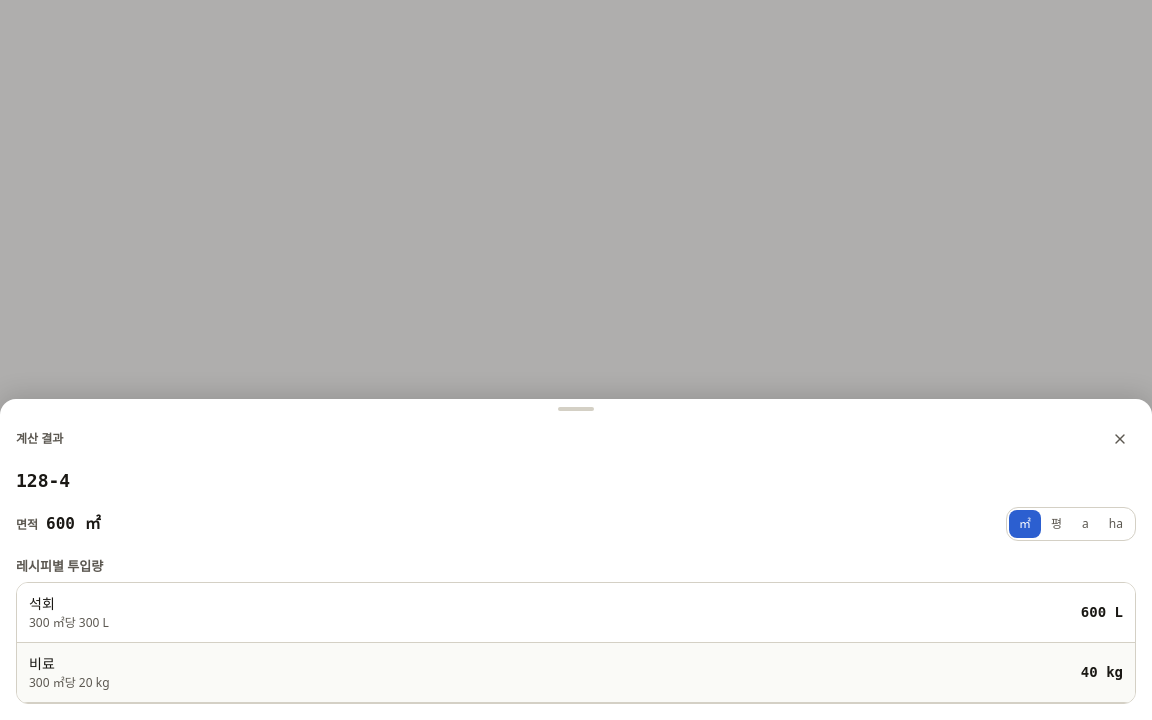
it: AC-7: 비그룹 필지 — 지번 헤더·면적·레시피 계산값, 토글 없음, 단위는 표시 전용 › 단위를 '평'으로 토글하면 면적 표기만 바뀌고 계산 결과는 불변이다
Expected: the text "600 ㎡" is shown, top-left (46, 514), bottom-right (101, 533)
What coordinates should you click on to do the following:
click the button "평"
I would click on:
 (1057, 524)
Its box is top-left (1041, 510), bottom-right (1072, 538).
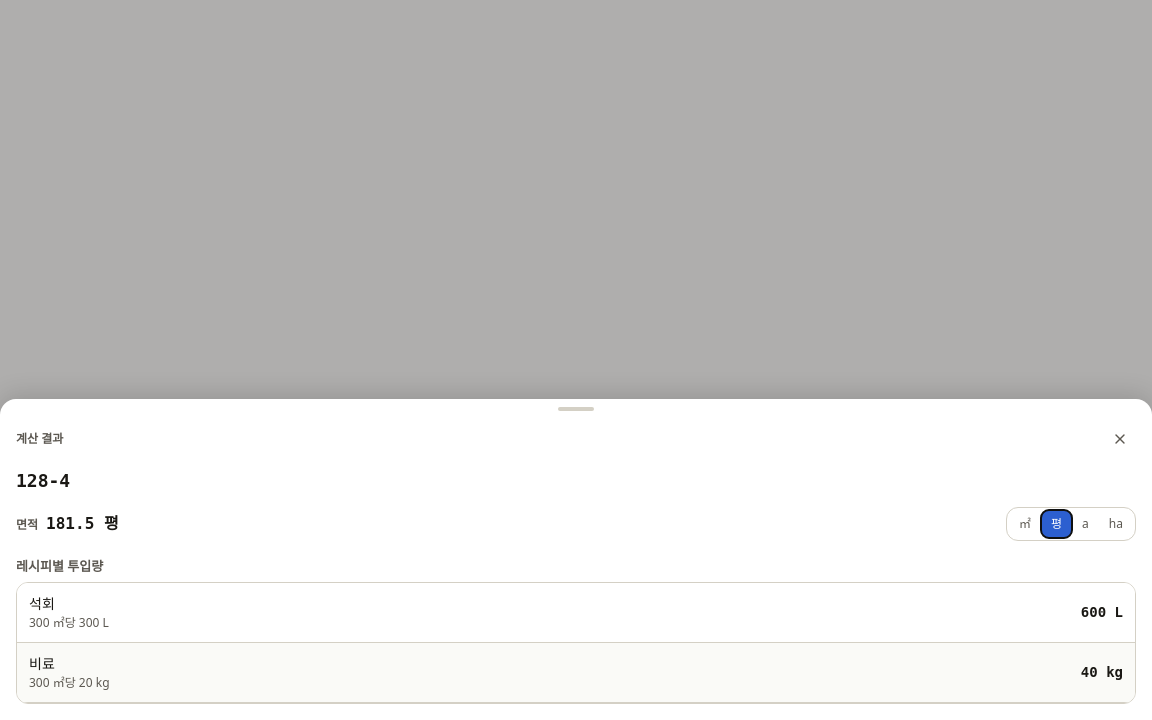
Expected: the text "600 L" is shown, top-left (1081, 602), bottom-right (1123, 623)
Result: the text "181.5 평" is shown at top-left (46, 514), bottom-right (119, 533)
